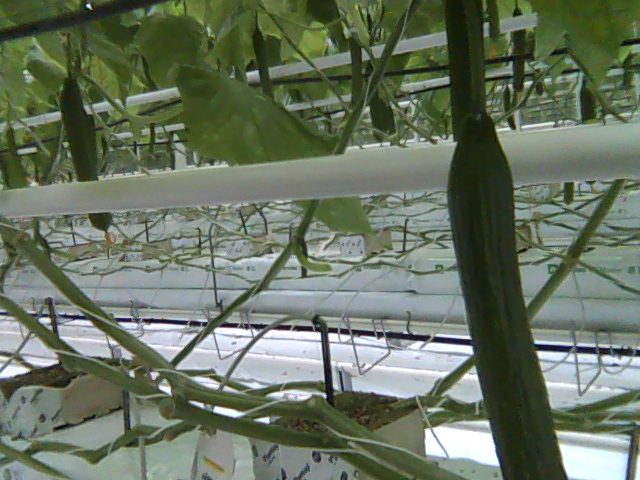concombre: (443, 107, 572, 480)
